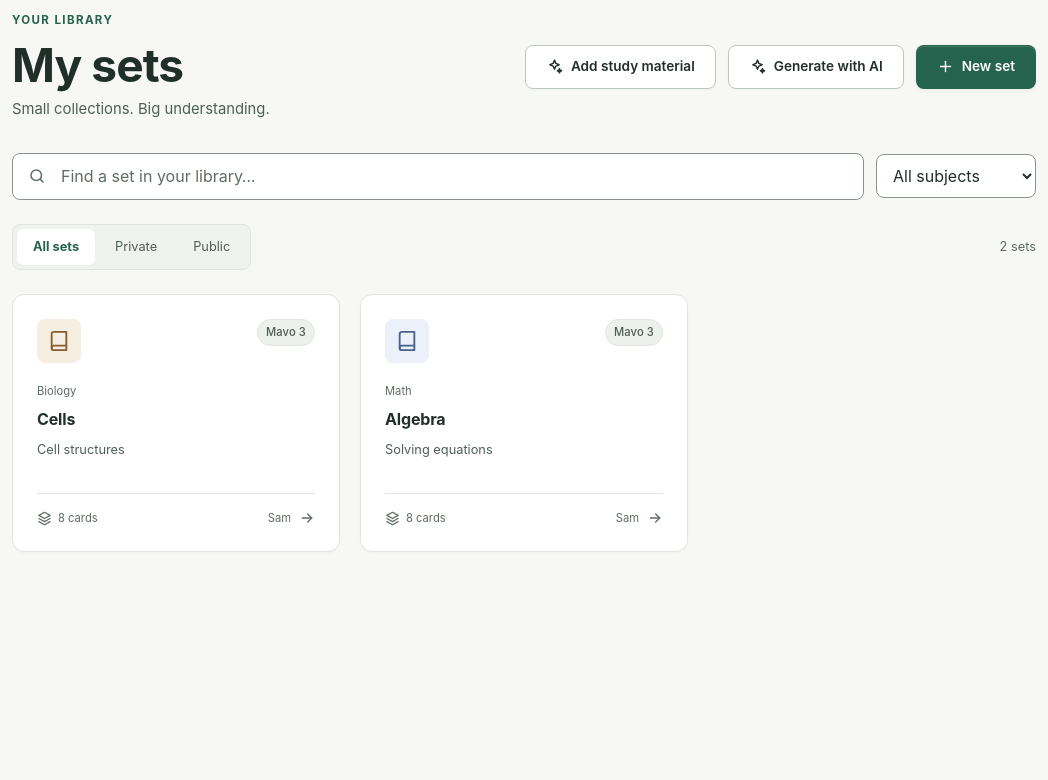
it: library presentation › filters the existing result locally by search, subject and visibility
This screenshot has width=1048, height=780.
Click the button "Private": coordinates (136, 247) [99, 229, 173, 265]
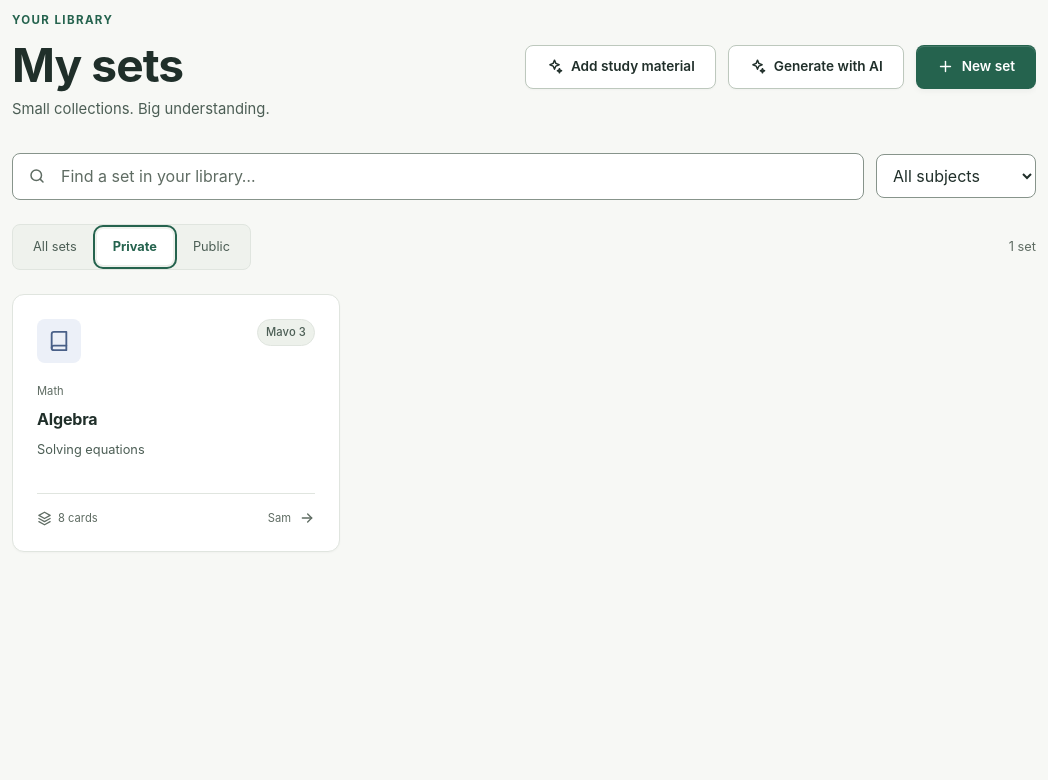
expect the link "Mavo 3 Math Algebra Solving equations 8 cards Sam" is shown: met, box [12, 294, 340, 552]
expect the link "Cells" is gone: met
Click the button "All sets": coordinates (55, 247) [17, 229, 93, 265]
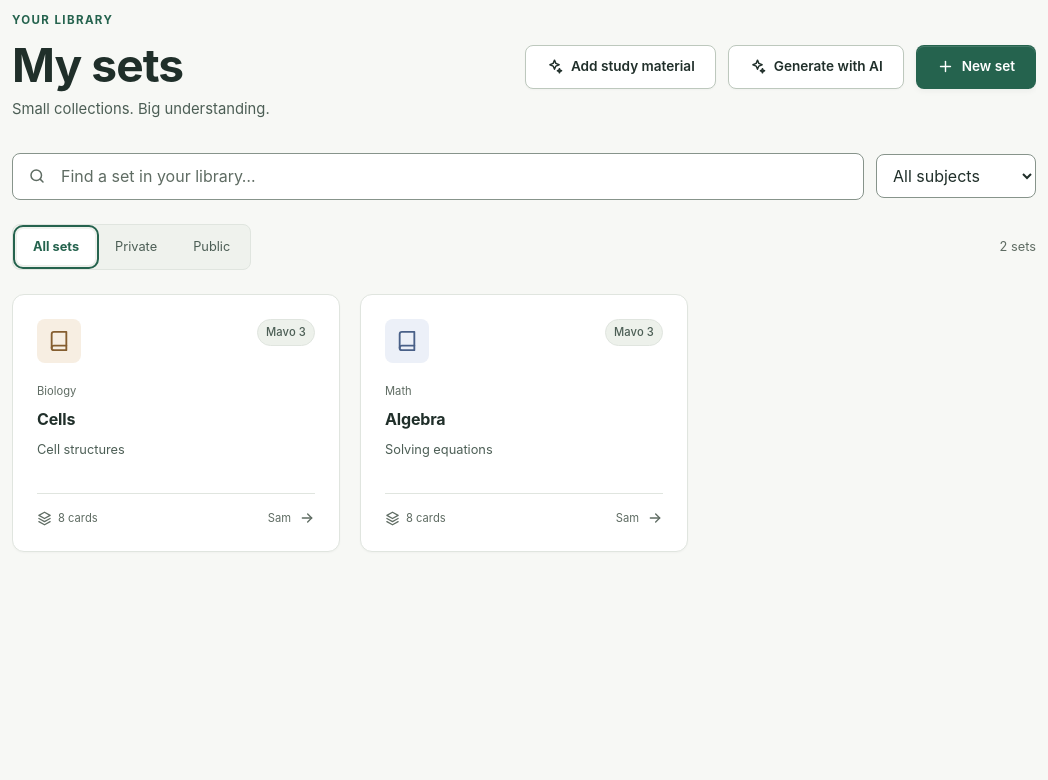
Select "Biology" in the dropdown named "Filter by subject": coordinates (956, 176) [876, 154, 1036, 198]
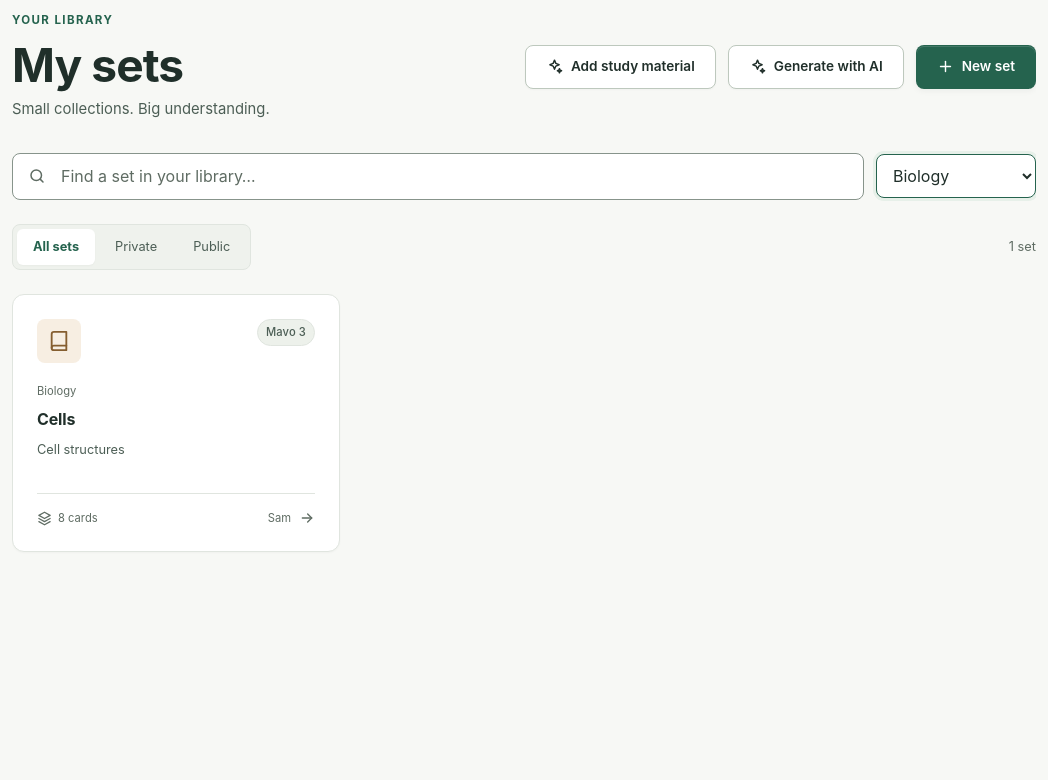
expect the link "Algebra" is gone: met
In the search field named "Search your sets": coordinates (438, 176) [12, 153, 864, 200], type "no match"
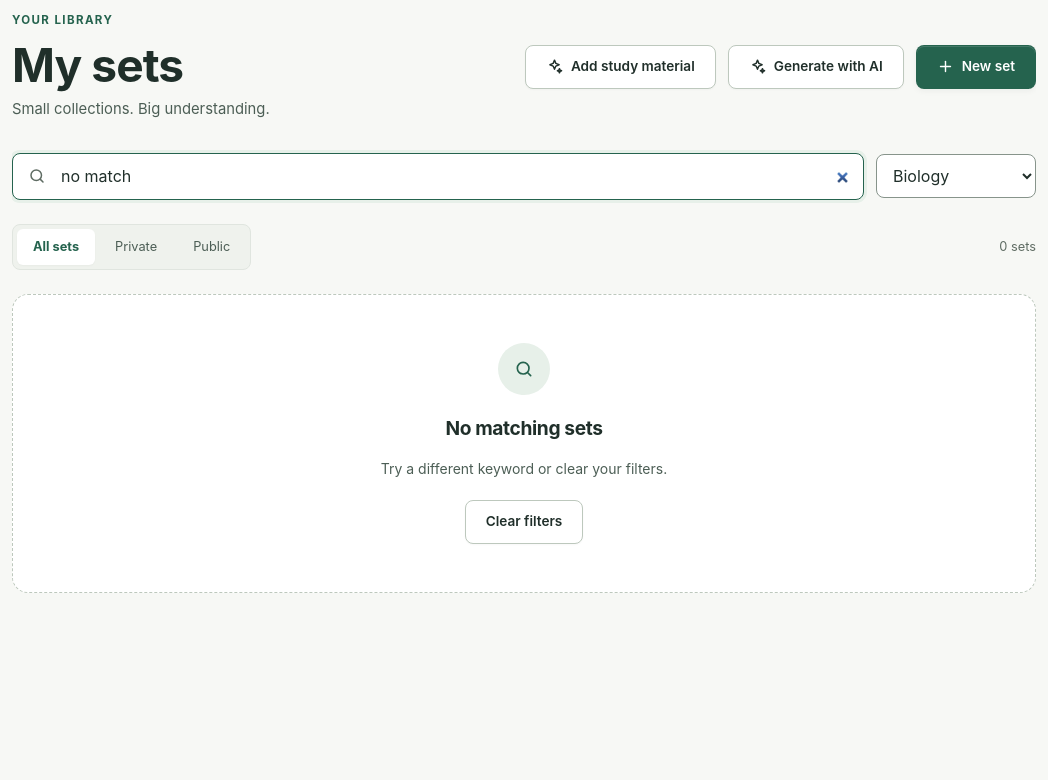
expect the heading "No matching sets" is shown: met, box [445, 417, 602, 440]
Click the button "Clear filters": coordinates (524, 522) [465, 500, 583, 544]
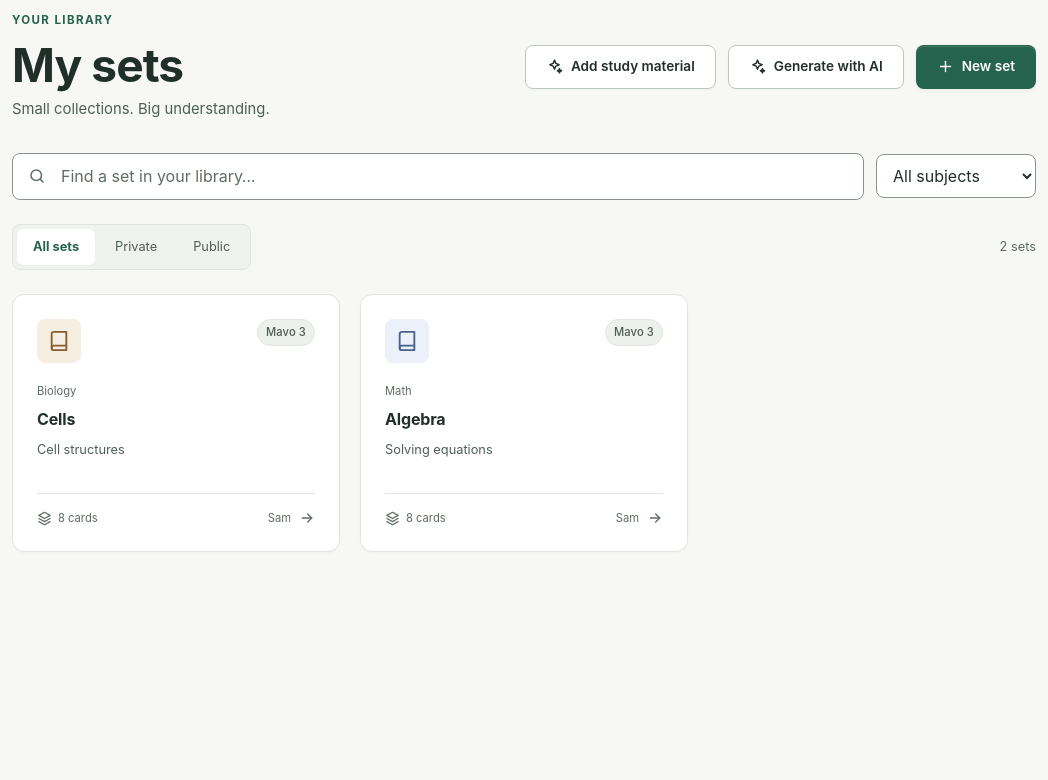
expect the link "Mavo 3 Math Algebra Solving equations 8 cards Sam" is shown: met, box [360, 294, 688, 552]
